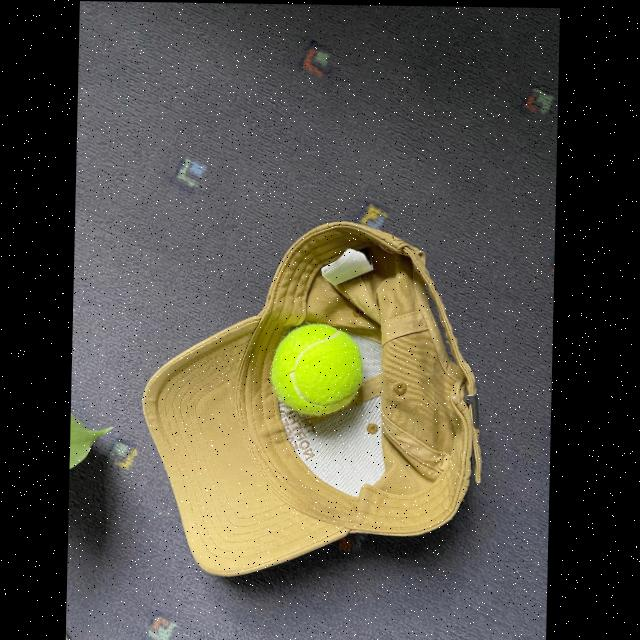Tennisball: (271, 323, 362, 416)
